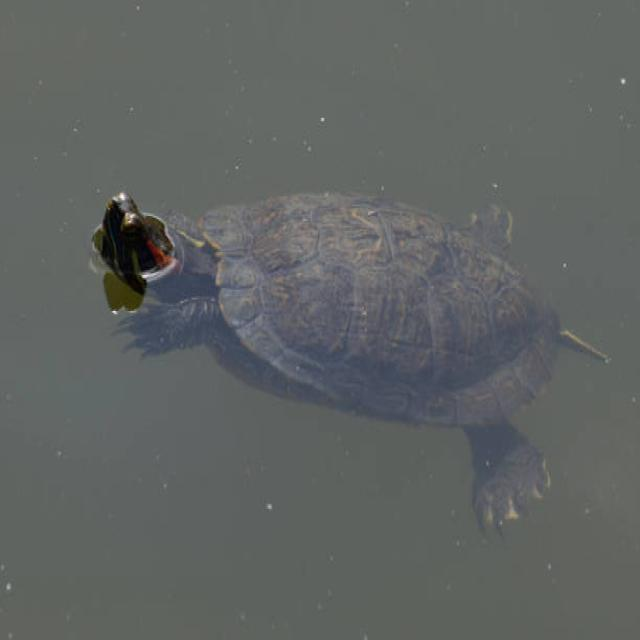terrapin: (194, 183, 470, 382), (446, 438, 580, 562), (102, 286, 213, 382), (551, 284, 640, 392), (82, 185, 185, 272), (458, 175, 546, 259)
